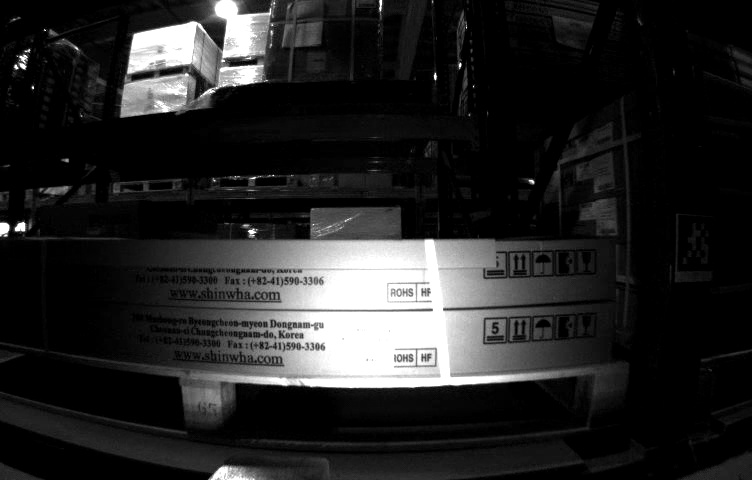True Barcode: (331, 313, 395, 373)
